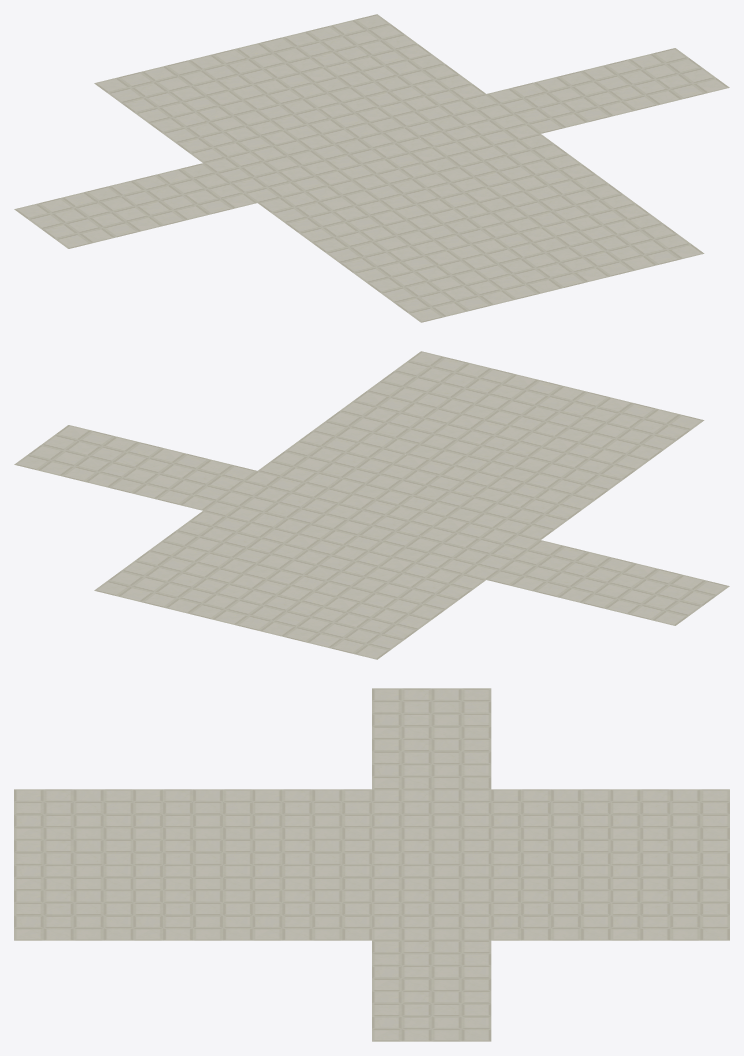
Rendered from Homeworld_Interior_Fd_Room_C_Floor_01_Vo.fbx.
3 views of the same model, one above another, from view 1: azimuth 30°, elevation 25°; view 2: azimuth 150°, elevation 25°; view 3: azimuth 270°, elevation 25° (orthographic). The views are drawn at different scales.
Visible parts, largest first — view 1: Homeworld_Interior_Fd_Room_Floor_01_Vo (×22); view 2: Homeworld_Interior_Fd_Room_Floor_01_Vo (×22); view 3: Homeworld_Interior_Fd_Room_Floor_01_Vo (×22).
Boxes of the visible parts, x1,y1,x2,y2 form: Homeworld_Interior_Fd_Room_Floor_01_Vo (×22): (14,14,729,322); Homeworld_Interior_Fd_Room_Floor_01_Vo (×22): (14,351,729,659); Homeworld_Interior_Fd_Room_Floor_01_Vo (×22): (14,688,729,1041).
Bounding box in the file's own units: 35 × 1.27e-06 × 30.
